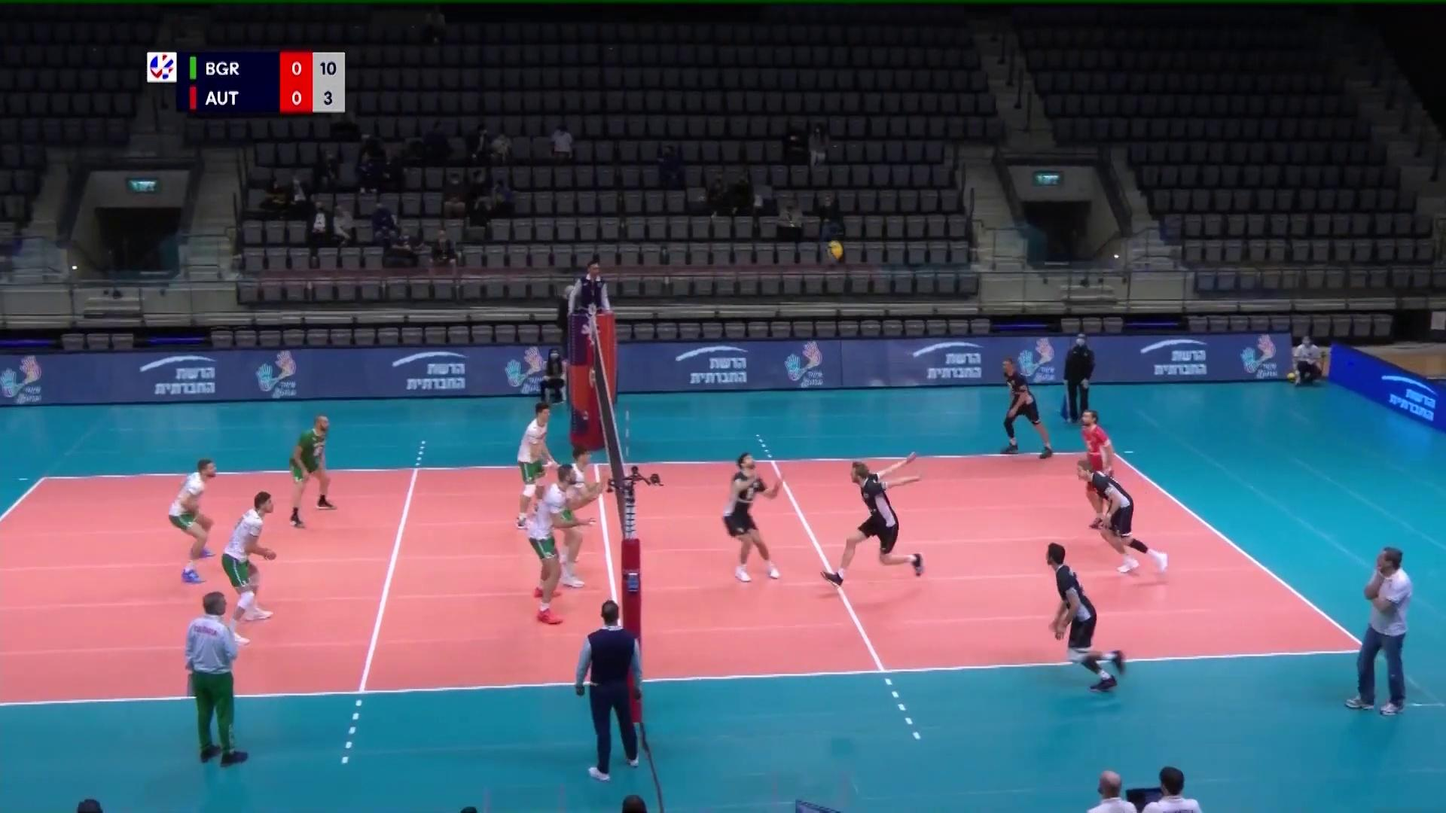ball: (825, 239, 846, 260)
